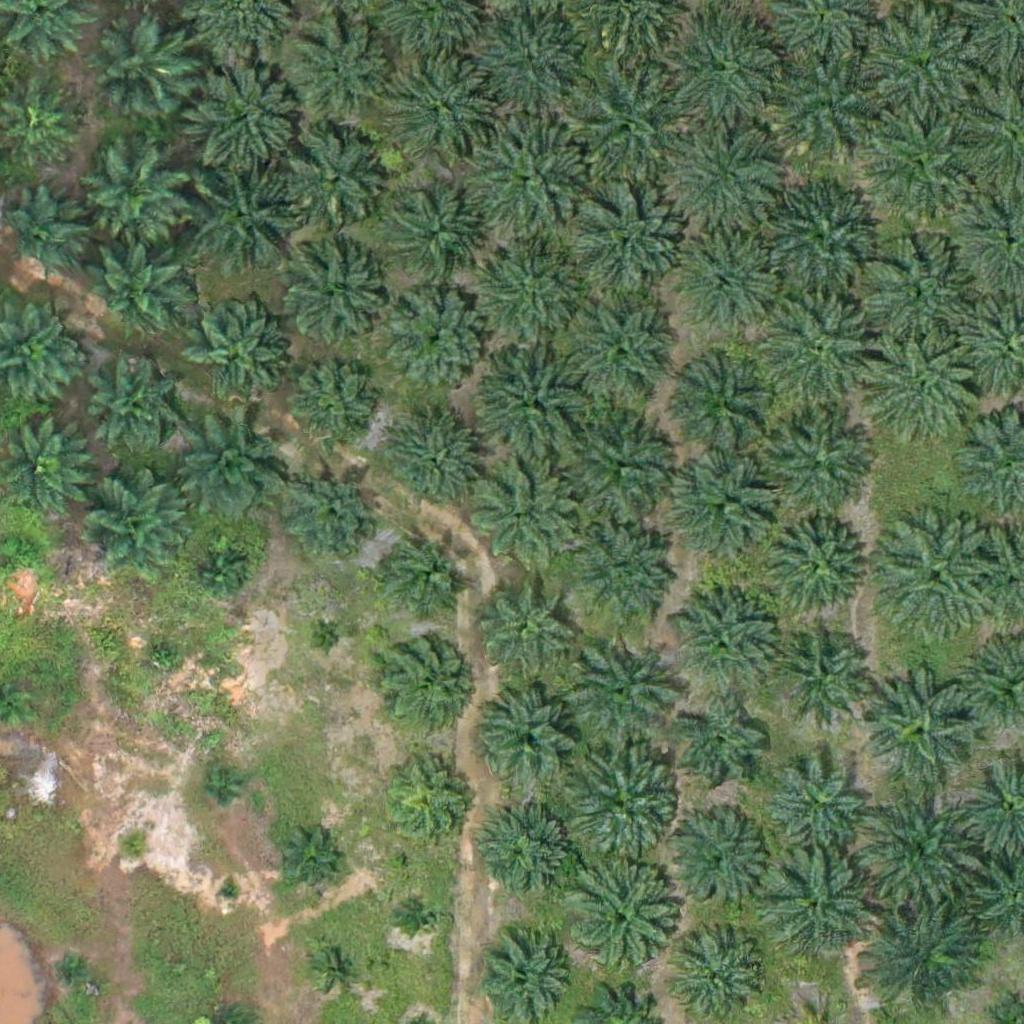Kelapa_Sawit: (468, 340, 593, 466), (465, 233, 590, 359), (465, 111, 590, 237), (565, 55, 690, 181), (566, 184, 691, 310), (559, 404, 684, 530), (661, 122, 786, 248), (662, 12, 787, 138), (759, 175, 884, 301), (755, 286, 880, 412), (863, 331, 988, 457), (856, 233, 981, 359), (871, 513, 996, 639), (856, 783, 981, 909), (864, 894, 989, 1020), (179, 53, 304, 178), (557, 741, 682, 866), (557, 860, 682, 985), (468, 15, 581, 129), (188, 164, 301, 277), (179, 413, 292, 526), (564, 297, 677, 410), (863, 4, 976, 117), (772, 57, 885, 170), (764, 852, 877, 965), (669, 587, 782, 700), (566, 518, 679, 631), (563, 636, 676, 749), (866, 664, 978, 778), (671, 347, 783, 460), (760, 413, 872, 526), (468, 463, 580, 576), (86, 237, 186, 338), (187, 304, 287, 405), (284, 252, 384, 353), (282, 131, 382, 232), (287, 19, 387, 120), (395, 61, 495, 162), (388, 290, 488, 391), (384, 415, 484, 516), (871, 110, 971, 211), (768, 753, 868, 854), (672, 699, 772, 800), (667, 808, 767, 909), (470, 569, 570, 670), (481, 686, 581, 787), (478, 805, 578, 906), (373, 524, 473, 625), (375, 630, 475, 731), (380, 751, 480, 852), (86, 478, 186, 579), (94, 21, 194, 121), (82, 147, 182, 247), (683, 242, 783, 342), (765, 515, 865, 615), (774, 623, 874, 723), (677, 459, 777, 559), (1, 191, 89, 279), (88, 361, 176, 449), (391, 195, 479, 283), (288, 469, 375, 558), (287, 362, 374, 450), (275, 832, 338, 895), (194, 546, 244, 597), (3, 532, 41, 570), (146, 639, 184, 677), (308, 620, 346, 658), (114, 829, 152, 867), (405, 898, 443, 936), (317, 948, 354, 986), (198, 768, 235, 806), (57, 950, 94, 987), (217, 878, 242, 903)
